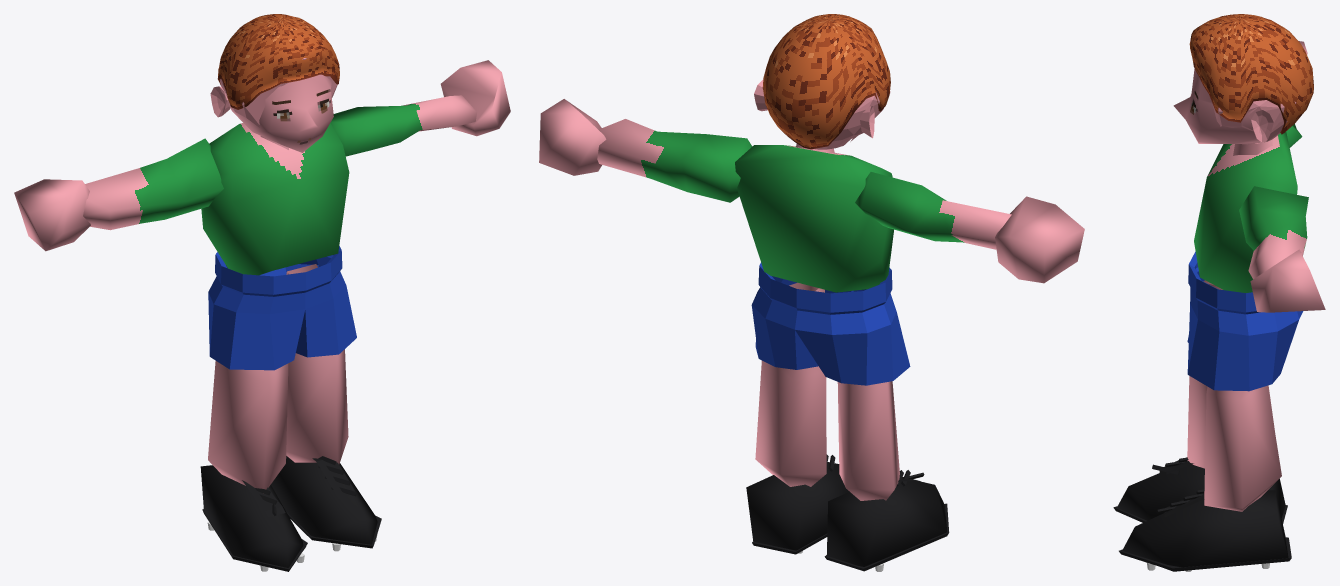
Rendered from 03-raspado_ruivo.glb.
The picture shows the model from 3 angles, left to right: view 1: azimuth 30°, elevation 25°; view 2: azimuth 150°, elevation 25°; view 3: azimuth 270°, elevation 25°; orthographic projection. The views are drawn at different scales.
Parts seen in each view (by area): view 1: Camisa_Tronco, Bermuda, Perna.R, Braco.R, Cabelo, Perna.L, Chuteira.R, Chuteira.L, Braco.L, Cabeca, Mao.R, Mao.L (+4 smaller); view 2: Camisa_Tronco, Bermuda, Cabelo, Perna.L, Braco.L, Chuteira.R, Perna.R, Braco.R, Mao.R, Chuteira.L, Mao.L, Cranio (+1 smaller); view 3: Cabelo, Bermuda, Chuteira.L, Camisa_Tronco, Perna.L, Braco.L, Mao.L, Chuteira.R, Cabeca, Perna.R, Cranio, Chuteira_Sola.L (+4 smaller).
Boxes of the visible parts, x1,y1,x2,y2 form: Camisa_Tronco: (201, 123, 349, 275); Bermuda: (208, 246, 356, 370); Perna.R: (208, 361, 288, 493); Braco.R: (83, 138, 223, 230); Cabelo: (217, 14, 339, 109); Perna.L: (286, 264, 348, 464); Chuteira.R: (200, 465, 305, 567); Chuteira.L: (271, 456, 377, 544); Braco.L: (330, 95, 476, 156); Cabeca: (235, 74, 333, 152); Mao.R: (14, 179, 90, 251); Mao.L: (440, 60, 510, 136); Camisa_Tronco: (735, 145, 893, 292); Bermuda: (751, 262, 910, 385); Cabelo: (762, 14, 890, 149); Perna.L: (755, 282, 826, 486); Braco.L: (597, 119, 752, 202); Chuteira.R: (827, 477, 946, 566); Perna.R: (837, 381, 899, 500); Braco.R: (855, 172, 1011, 249); Mao.R: (995, 196, 1084, 283); Chuteira.L: (746, 462, 849, 550); Mao.L: (539, 99, 606, 175); Cranio: (814, 91, 890, 149); Cabelo: (1189, 14, 1313, 134); Bermuda: (1187, 251, 1303, 391); Chuteira.L: (1122, 490, 1288, 571); Camisa_Tronco: (1194, 131, 1297, 292); Perna.L: (1204, 385, 1281, 511); Braco.L: (1239, 186, 1308, 279); Mao.L: (1250, 249, 1325, 312); Chuteira.R: (1117, 461, 1285, 520); Cabeca: (1173, 68, 1266, 143); Perna.R: (1187, 280, 1274, 468); Cranio: (1190, 40, 1296, 144); Chuteira_Sola.L: (1119, 537, 1291, 571).
Bounding box in the file's own units: 0.4523 × 0.4415 × 0.1617.
Materials: 3 (3 with a texture image).
